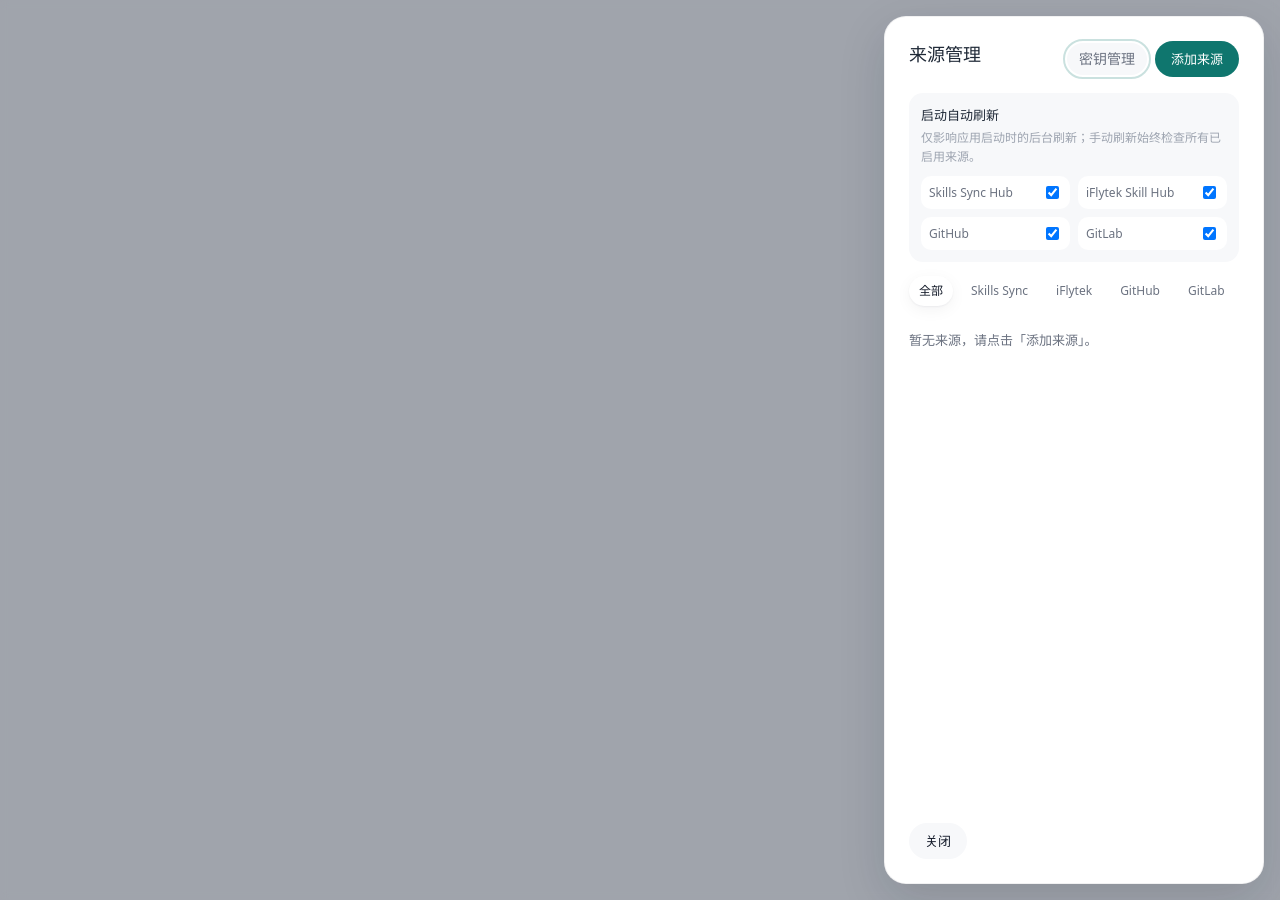
Scenario: SourceManageDrawer add flow › shows preview errors inside the add dialog and preserves the repository URL
This screenshot has width=1280, height=900.
Click the button "添加来源". click: click(1197, 59)
box: [1155, 41, 1239, 77]
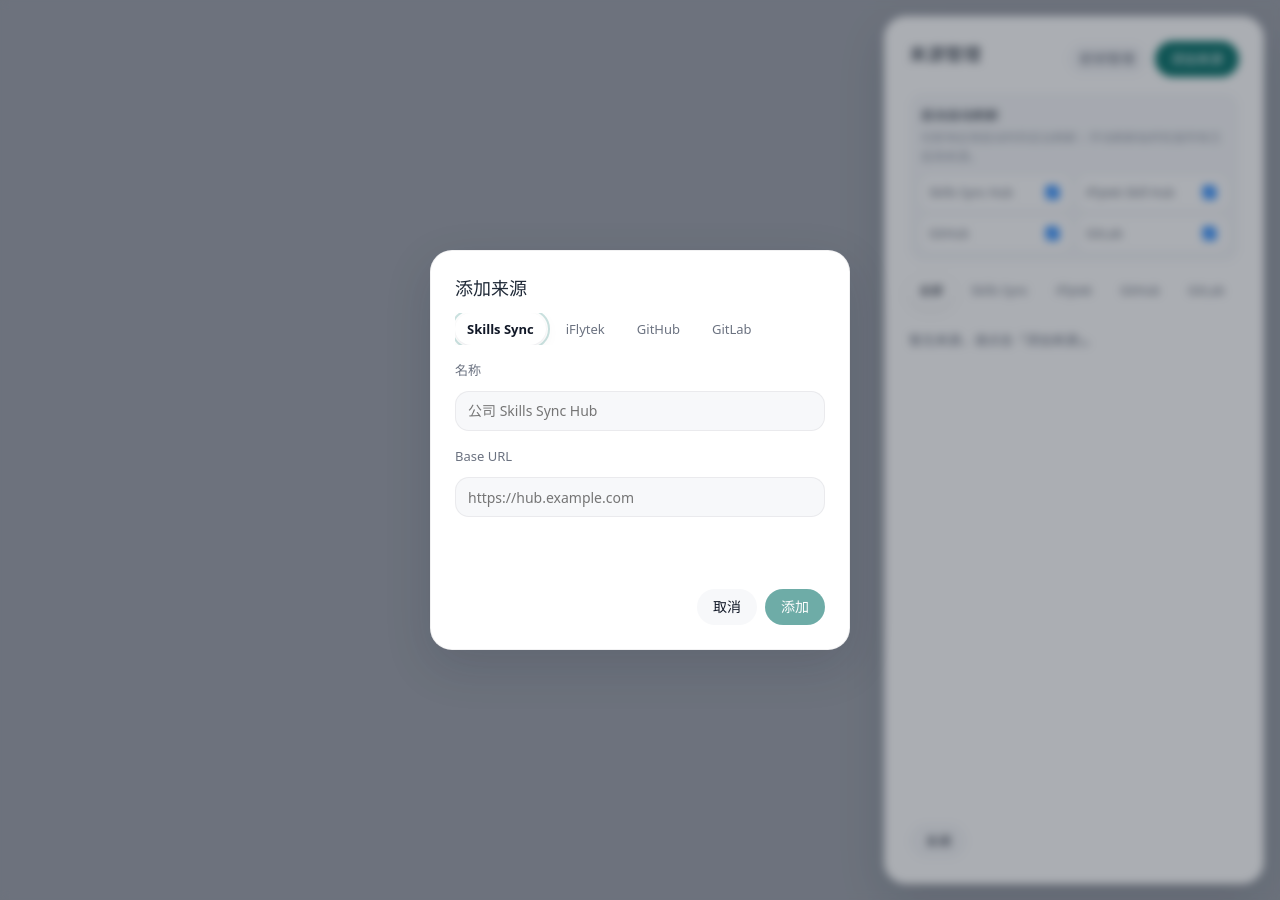
Click the tab "GitHub". click: click(658, 329)
box: [625, 313, 692, 345]
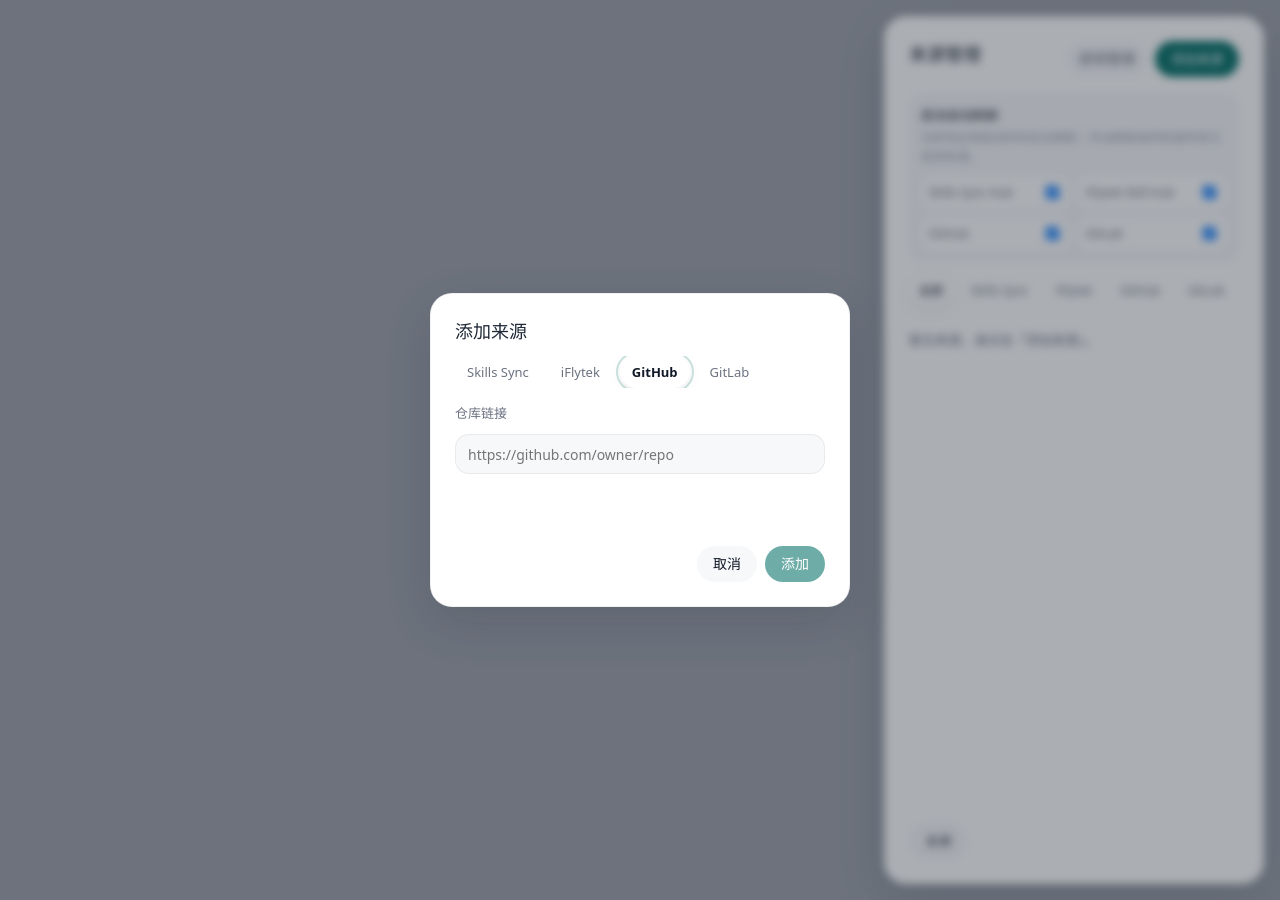
Type "https://example.com/not-a-repo" into the field labelled "仓库链接". click: (640, 454)
box: [455, 434, 825, 474]
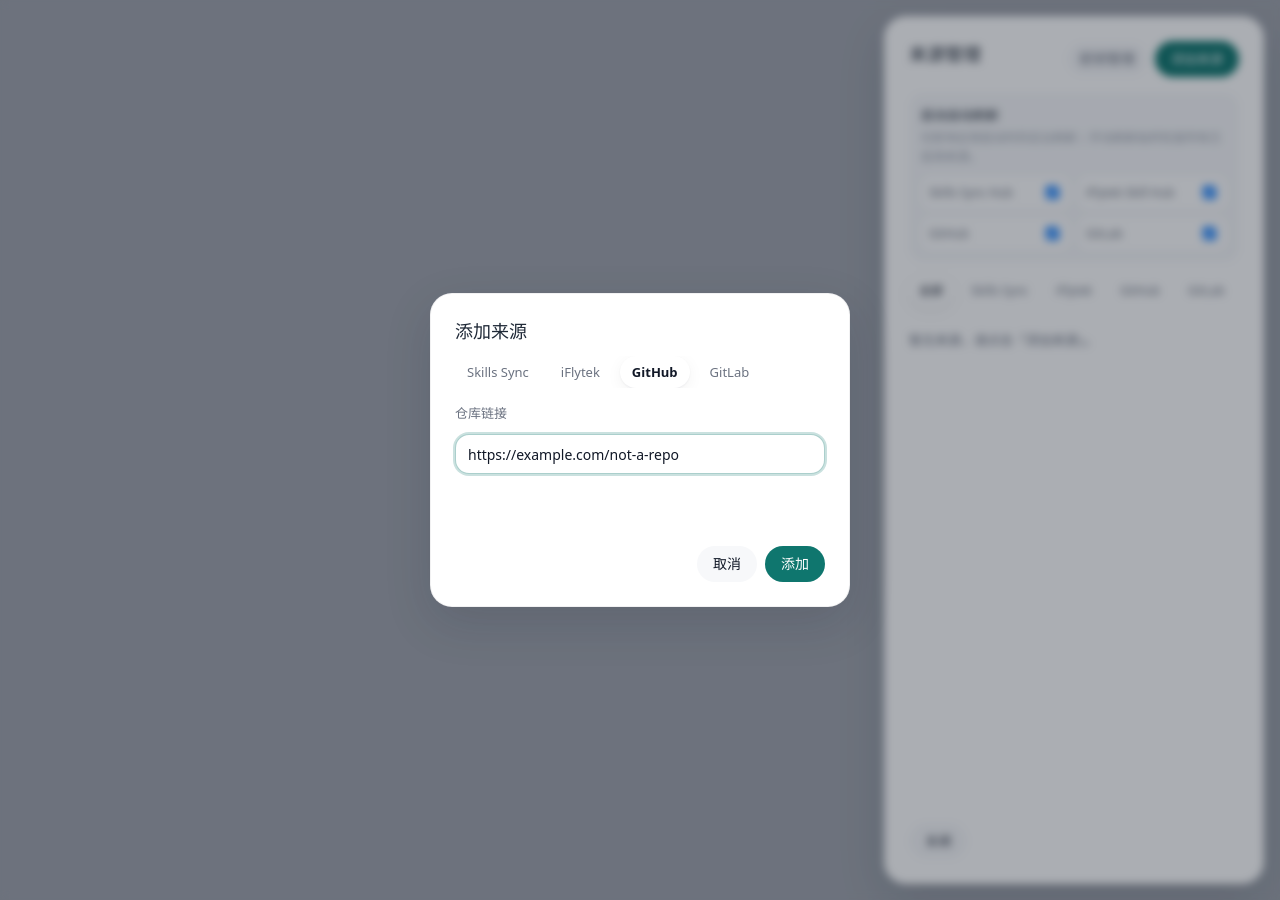
Click the button "添加". click: click(795, 564)
box: [765, 546, 825, 582]
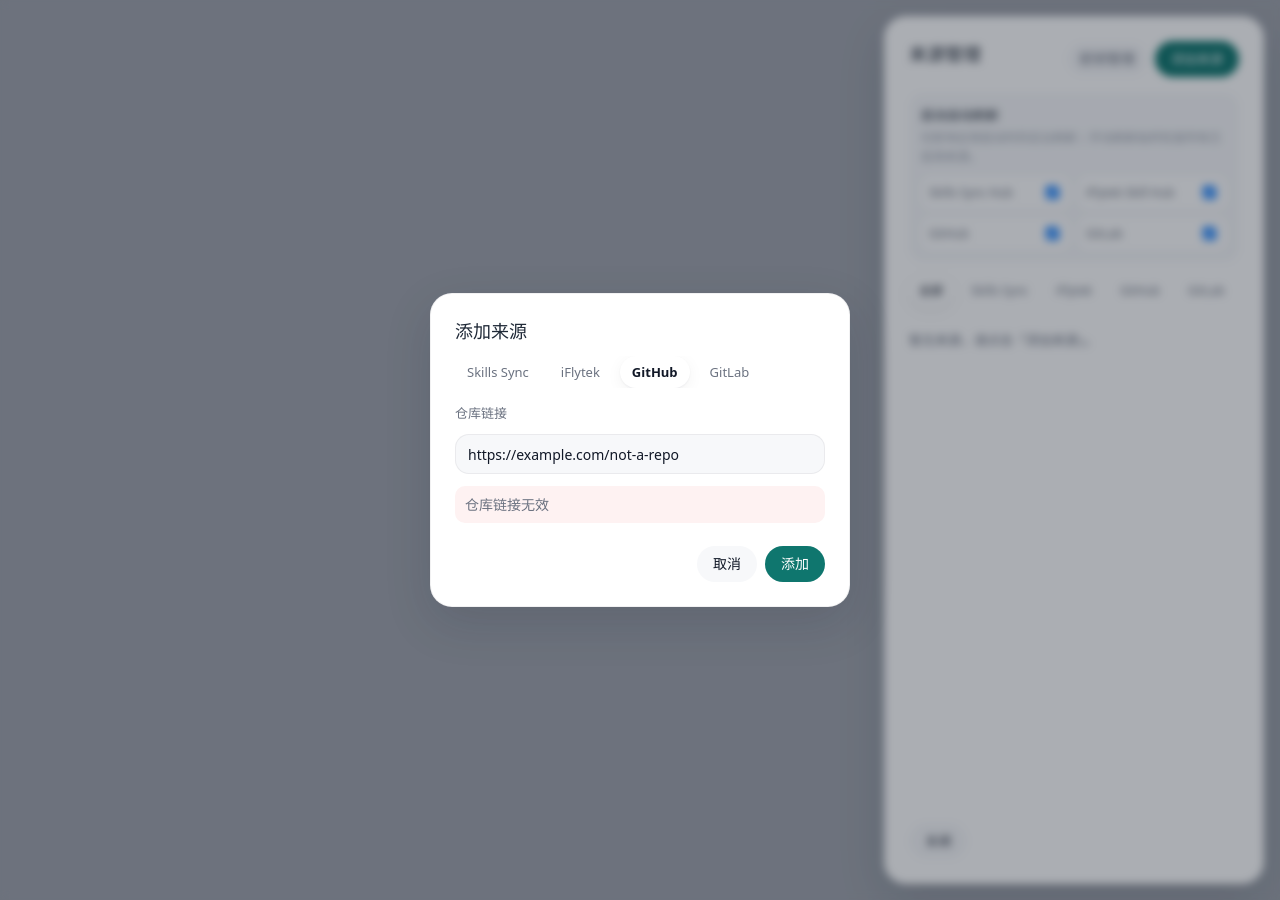
Now the message reads "仓库链接无效", box [465, 495, 549, 514]
